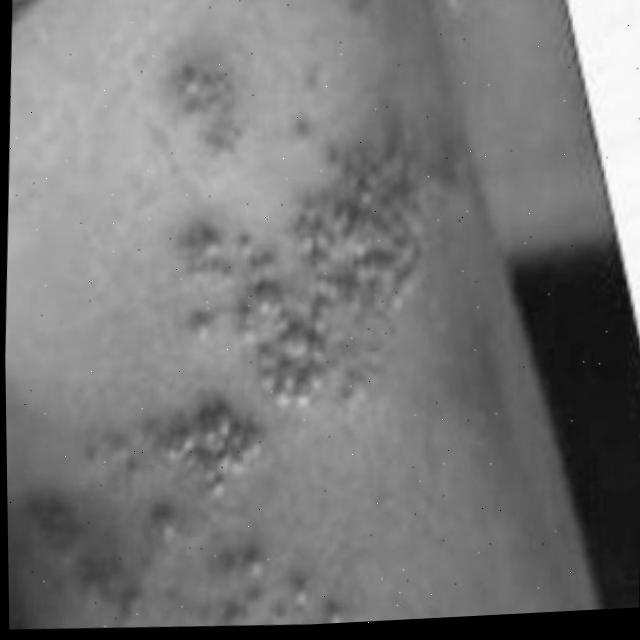Shingles: (117, 143, 426, 529), (26, 515, 356, 639), (167, 65, 253, 147)
